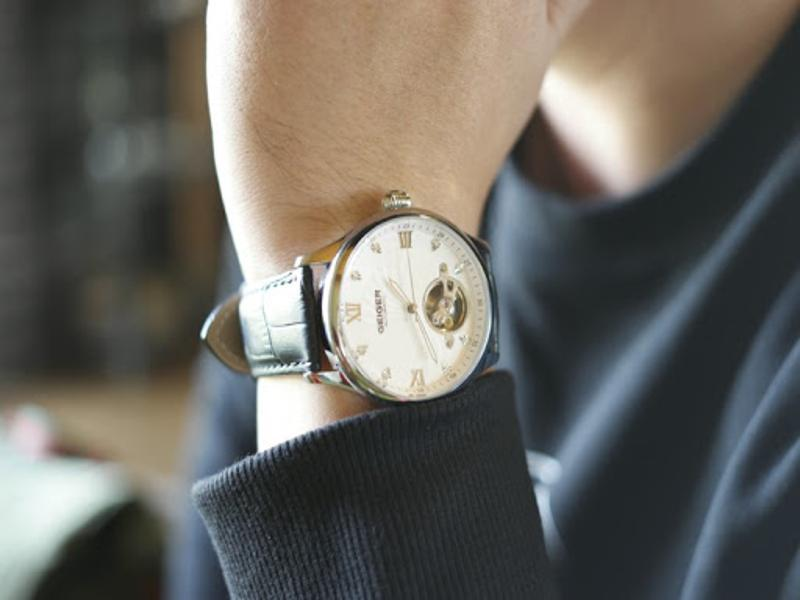watch: (198, 187, 501, 408)
